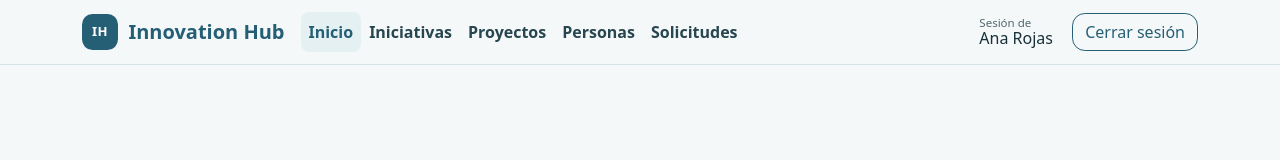
Test: Navbar autenticada › muestra identidad de la API y permite reintentar si logout falla por red
Expected: the text "Ana Rojas" is shown, [979,29,1053,48]
Click the button "Cerrar sesión".
click(1135, 32)  # box [1072,13,1198,51]
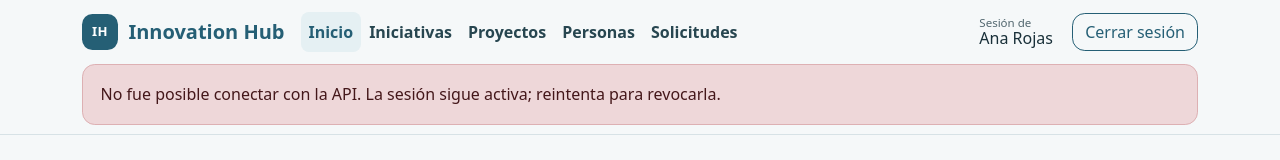
Expected: the message shows "sesión sigue activa", [101,83,721,105]
